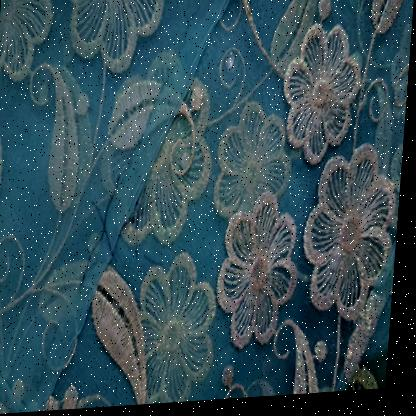spot: (75, 162, 132, 298), (128, 162, 159, 261)
